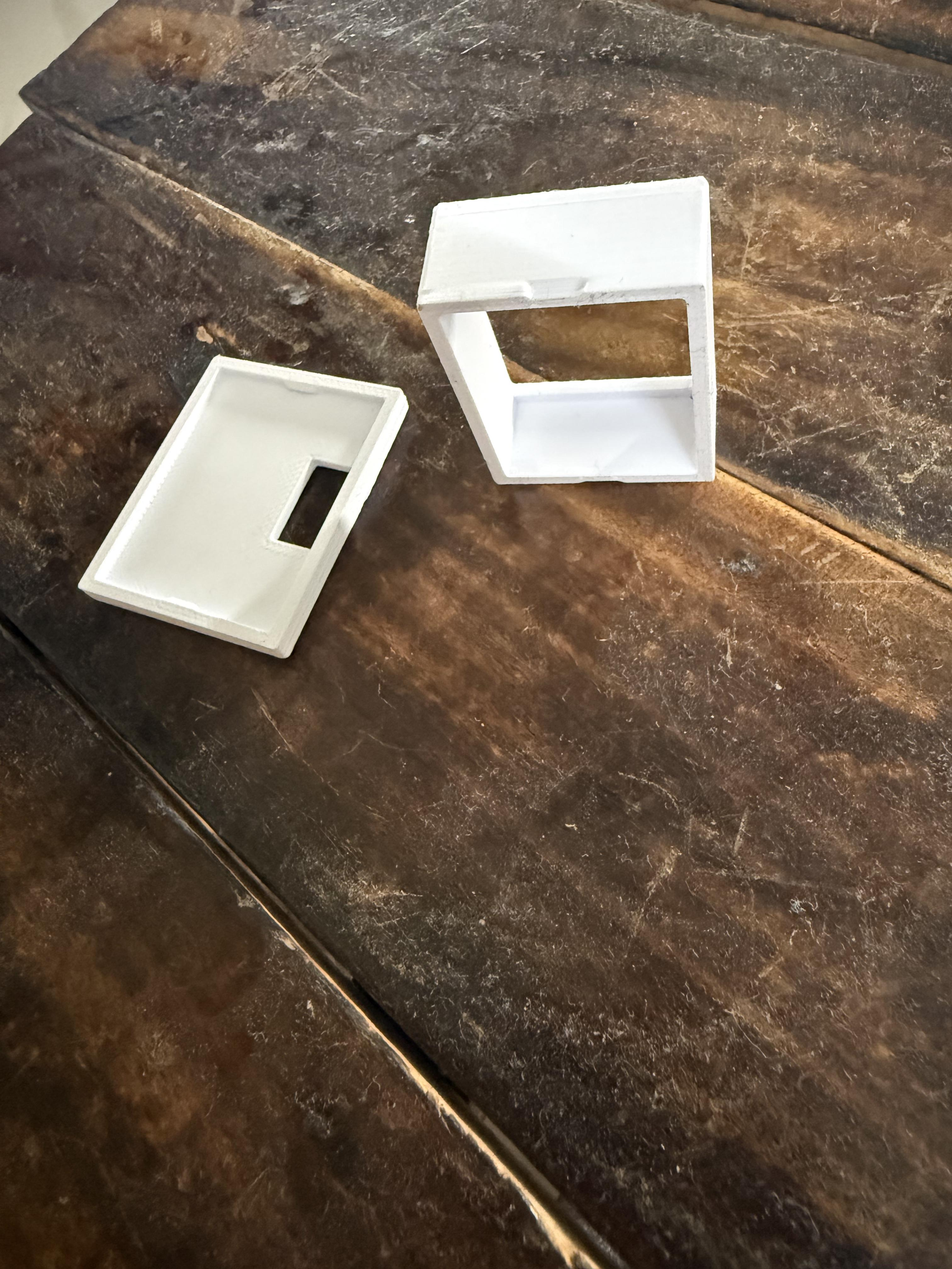enclosure: (66, 343, 411, 662), (415, 175, 718, 486)
